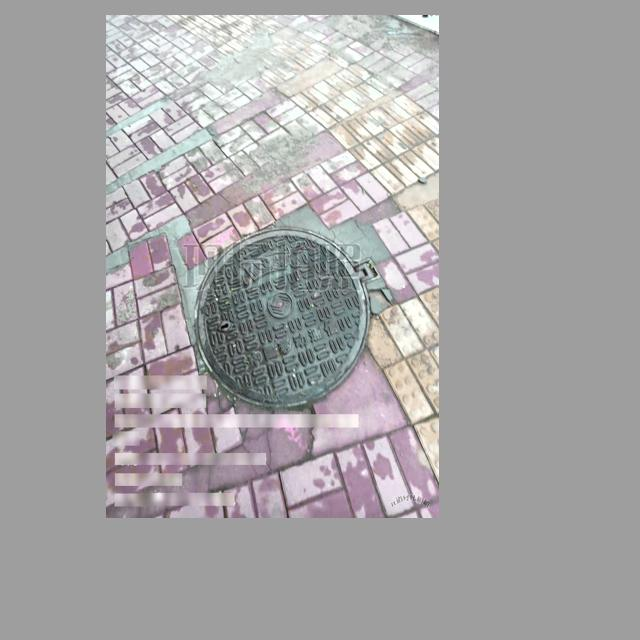good: (194, 227, 382, 409)
